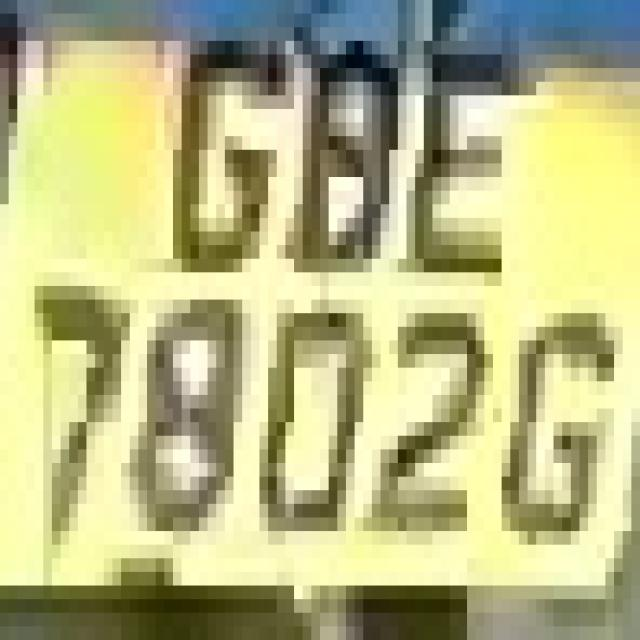0: (242, 258, 363, 544)
2: (372, 272, 493, 586)
7: (0, 232, 121, 599)
8: (121, 272, 260, 572)
B: (277, 14, 406, 313)
E: (389, 27, 536, 313)
G: (138, 0, 277, 327), (484, 232, 606, 599)
